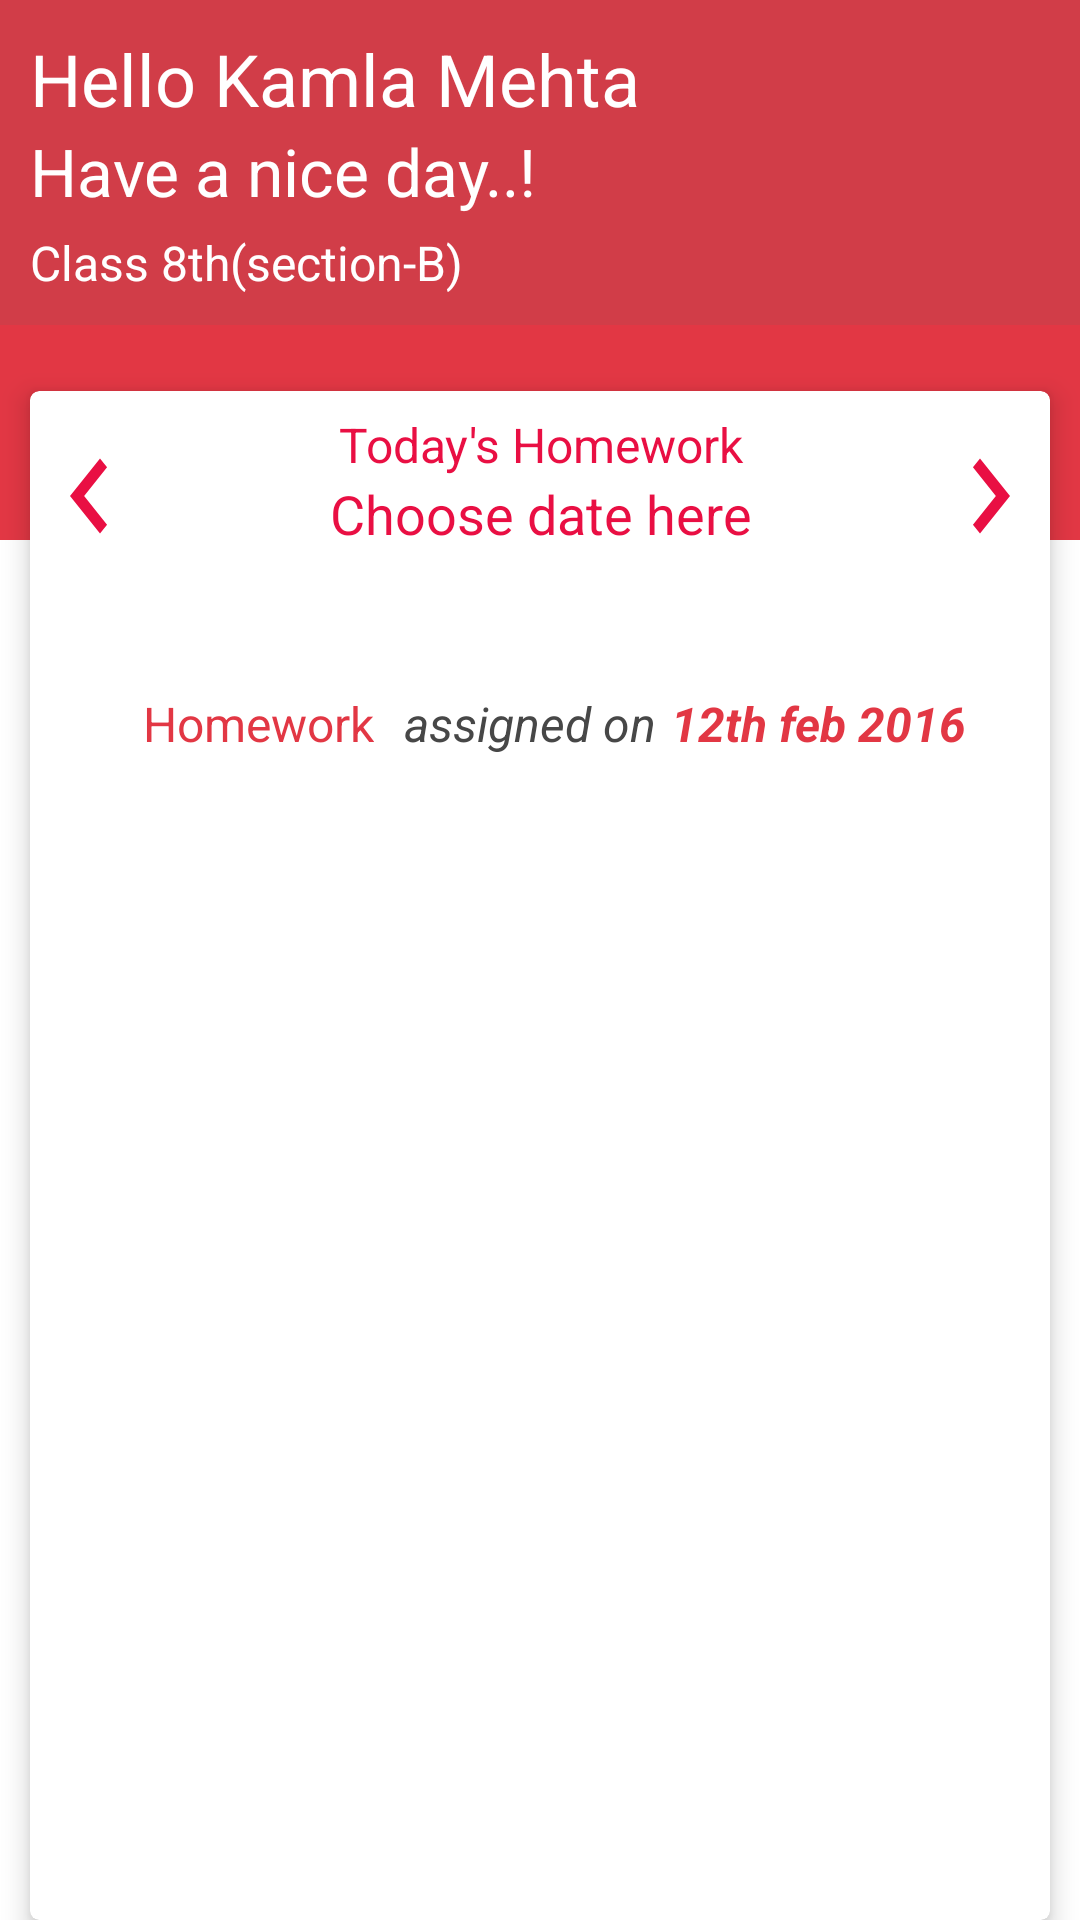

Named icons in this screenshot (1080px×1920px) and their centers, (x,y):
chevron left: (88,496)
chevron right: (991,496)
